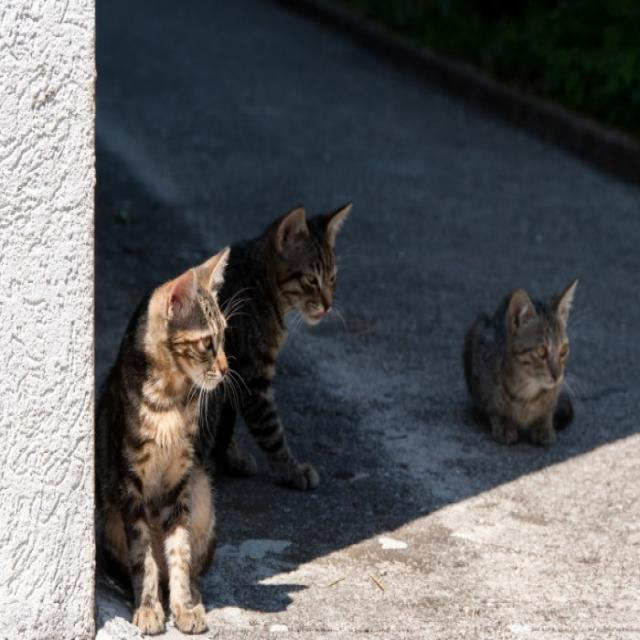cat: (96, 247, 230, 634), (200, 203, 351, 490), (464, 280, 577, 445)
